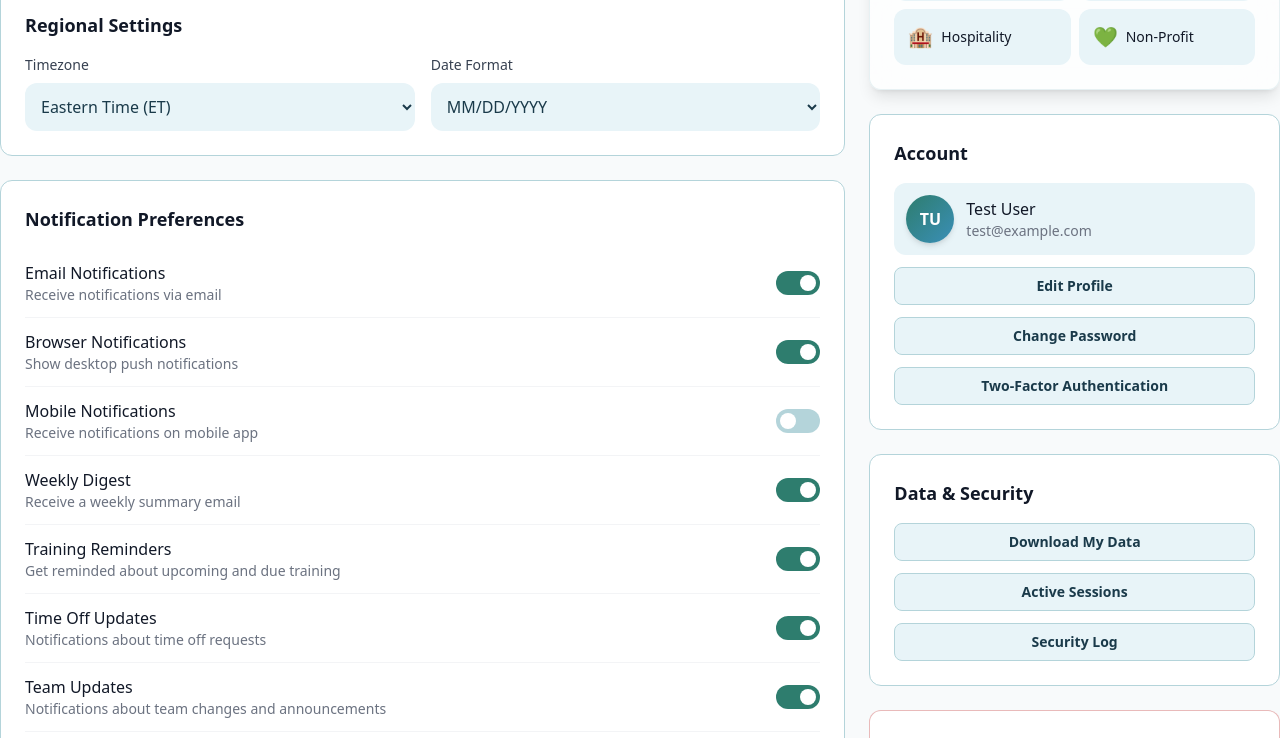
Scenario: Settings Component › opens Two-Factor modal when clicked
This screenshot has width=1280, height=738.
(page scrolled)
Click the button with test id "two-factor-button".
click(1075, 386)  # box [894,367,1255,405]
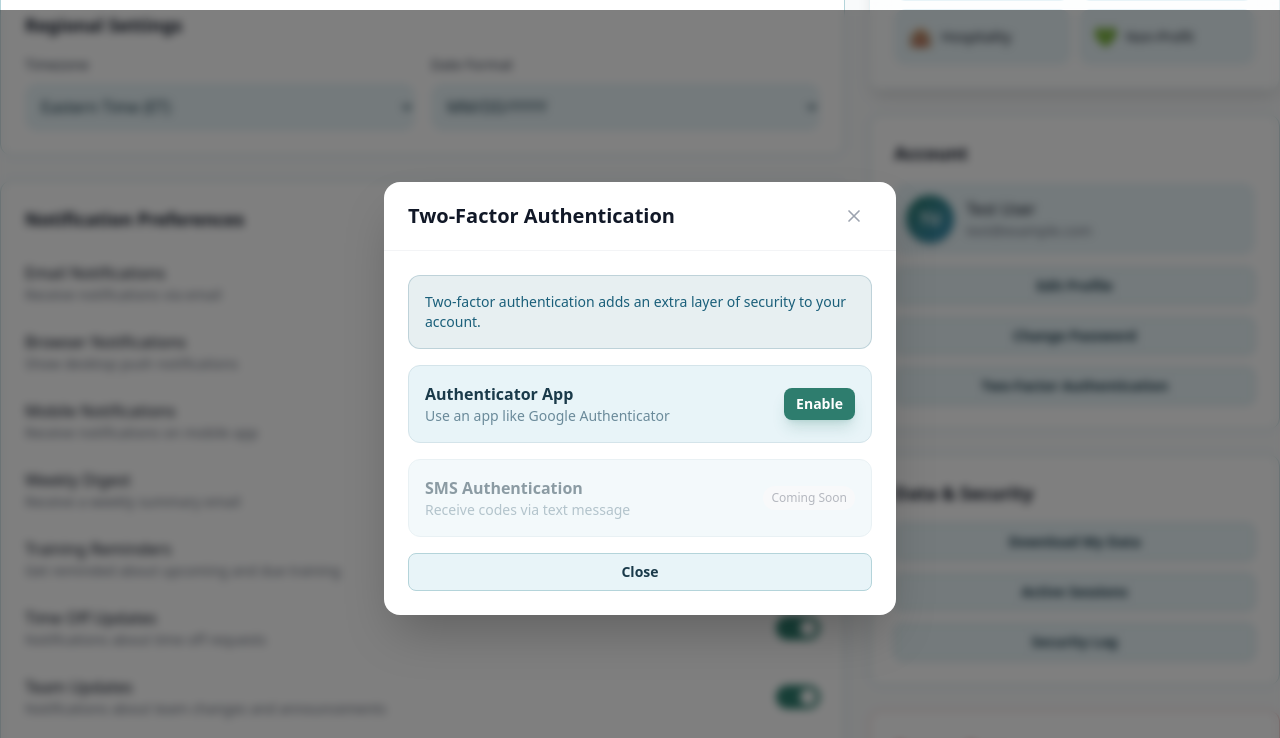
Now the text "Two-factor authentication adds an extra layer of security" is shown, box [425,292,846,330]
